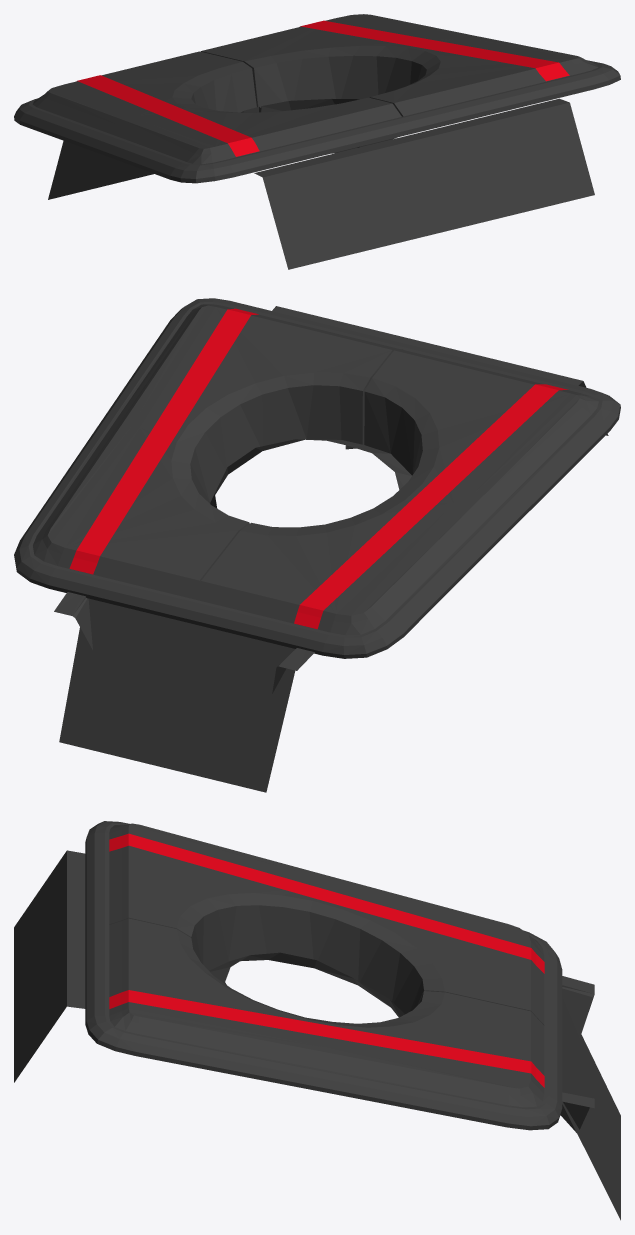
Rendered from shifter_base_M.glb.
3 renders of one model, top to bottom at view 1: azimuth 30°, elevation 25°; view 2: azimuth 150°, elevation 25°; view 3: azimuth 270°, elevation 25°, orthographic. The views are drawn at different scales.
Parts seen in each view (by area): view 1: TwiXeR_992_shifter_base_M_TwiXeR_992_rubbertrim.011_0, TwiXeR_992_shifter_base_M_TwiXeR_992_ID03_stitch_001_111111F; view 2: TwiXeR_992_shifter_base_M_TwiXeR_992_rubbertrim.011_0, TwiXeR_992_shifter_base_M_TwiXeR_992_ID03_stitch_001_111111F; view 3: TwiXeR_992_shifter_base_M_TwiXeR_992_rubbertrim.011_0, TwiXeR_992_shifter_base_M_TwiXeR_992_ID03_stitch_001_111111F.
Part boxes in pixels (x1,y1,x2,y2): TwiXeR_992_shifter_base_M_TwiXeR_992_rubbertrim.011_0: (14, 14, 620, 269); TwiXeR_992_shifter_base_M_TwiXeR_992_ID03_stitch_001_111111F: (77, 20, 569, 156); TwiXeR_992_shifter_base_M_TwiXeR_992_rubbertrim.011_0: (14, 298, 620, 792); TwiXeR_992_shifter_base_M_TwiXeR_992_ID03_stitch_001_111111F: (69, 308, 568, 629); TwiXeR_992_shifter_base_M_TwiXeR_992_rubbertrim.011_0: (14, 821, 620, 1220); TwiXeR_992_shifter_base_M_TwiXeR_992_ID03_stitch_001_111111F: (109, 833, 544, 1087).
Bounding box in the file's own units: 0.1427 × 0.0755 × 0.1639.
